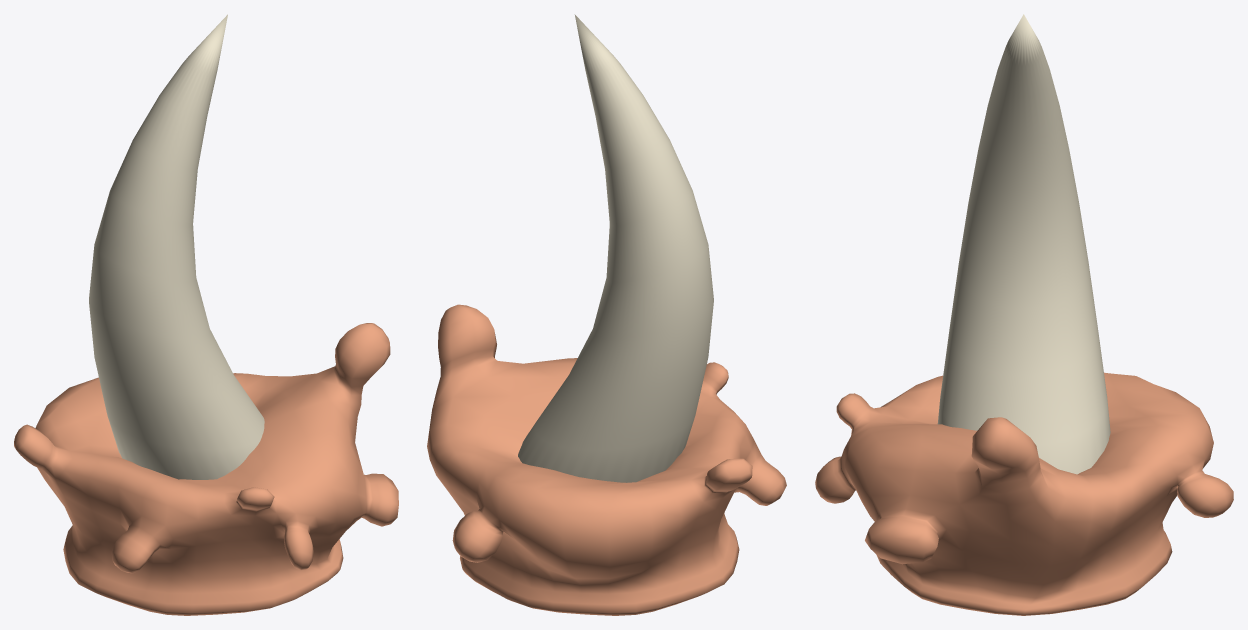
The model's file is flesh thorn.fbx.
The picture shows the model from 3 angles, left to right: view 1: azimuth 30°, elevation 25°; view 2: azimuth 150°, elevation 25°; view 3: azimuth 270°, elevation 25°; orthographic projection. The views are drawn at different scales.
Visible parts, largest first — view 1: nerdle, nerdle tooth; view 2: nerdle, nerdle tooth; view 3: nerdle, nerdle tooth.
Part boxes in pixels (<box>): nerdle: <box>14,323,398,615</box>; nerdle tooth: <box>89,14,264,479</box>; nerdle: <box>427,304,786,615</box>; nerdle tooth: <box>518,14,713,482</box>; nerdle: <box>815,372,1233,615</box>; nerdle tooth: <box>937,14,1110,474</box>.
Size of the model in its own units: 139 by 211 by 143.
